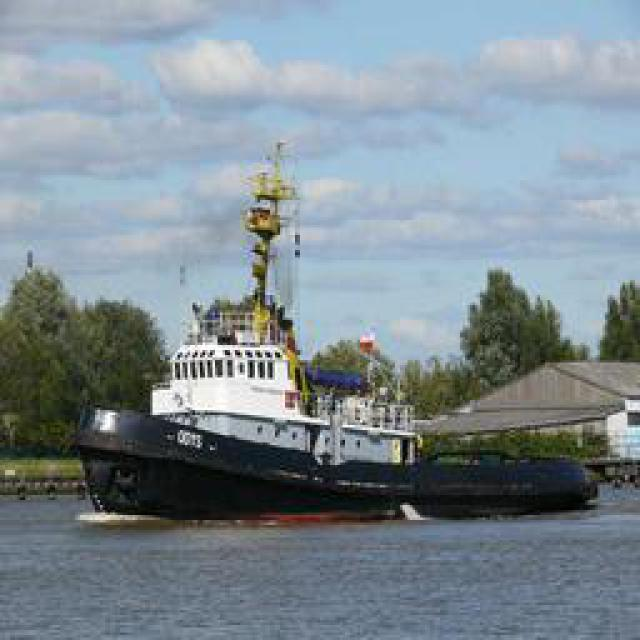Ship: (71, 125, 444, 515)
